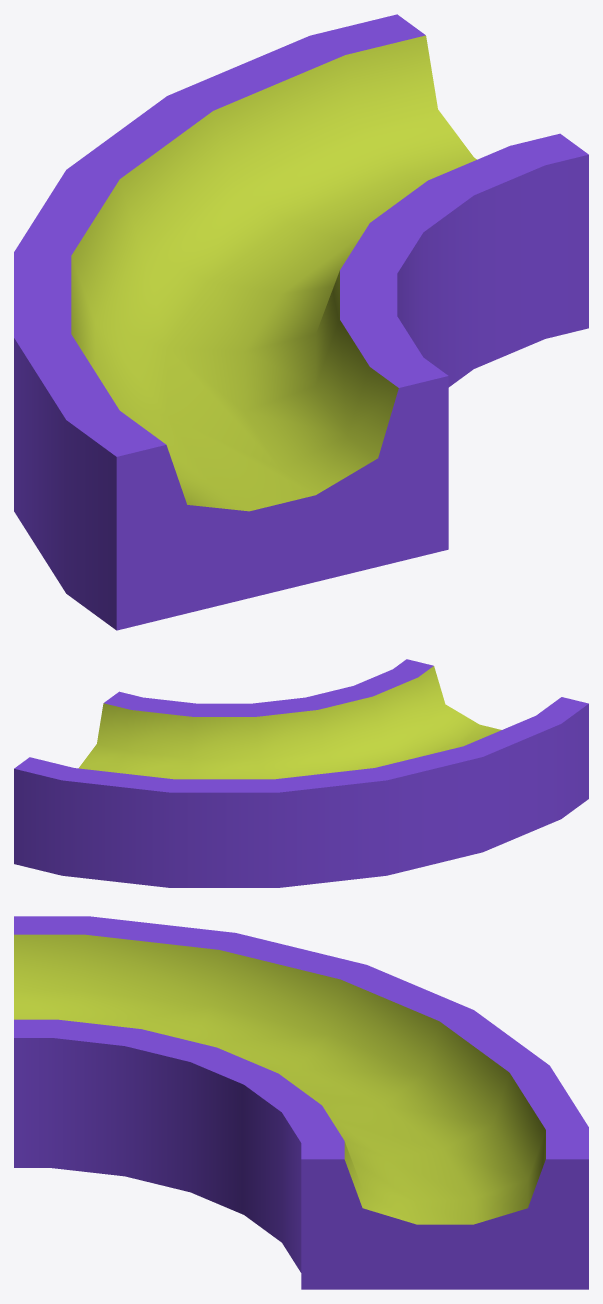
The model's file is curve-col.dae.
The picture shows the model from 3 angles, top to bottom: view 1: azimuth 30°, elevation 25°; view 2: azimuth 150°, elevation 25°; view 3: azimuth 270°, elevation 25°; orthographic projection. The views are drawn at different scales.
Visible parts, largest first — view 1: curve-col; view 2: curve-col; view 3: curve-col.
Boxes of the visible parts, left/top/right/bottom form: curve-col: left=14, top=14, right=588, bottom=630; curve-col: left=14, top=659, right=588, bottom=887; curve-col: left=14, top=916, right=588, bottom=1289.
Size of the model in its own units: 2 by 2 by 0.5.
